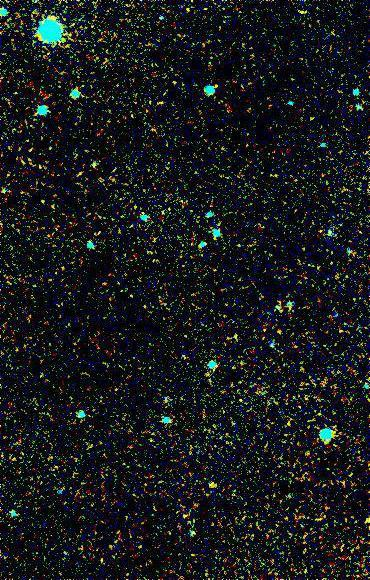star: (198, 468, 228, 498)
